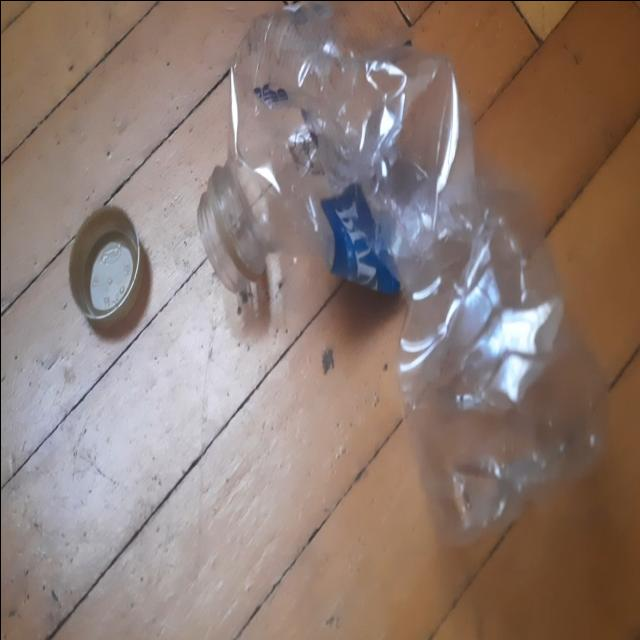Plastic: (197, 4, 610, 544)
